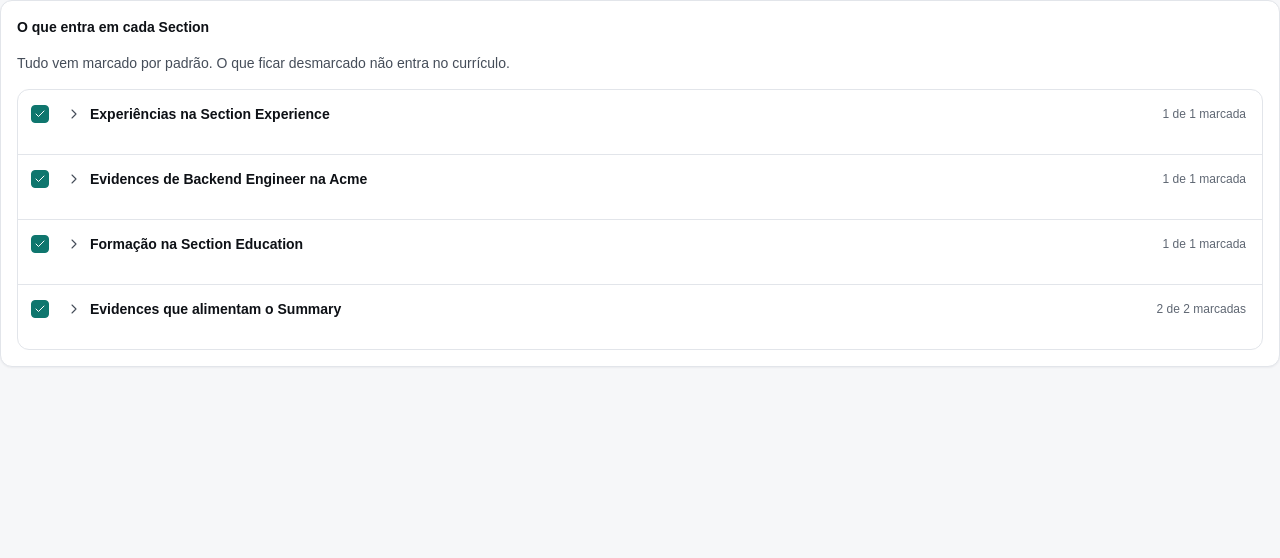
CareerProfilePicker › should start with every experience, formation and evidence checked
The image size is (1280, 558).
Click the button "Experiências na Section Experience 1 de 1 marcada". click: (210, 114)
box: [58,90,1254,138]
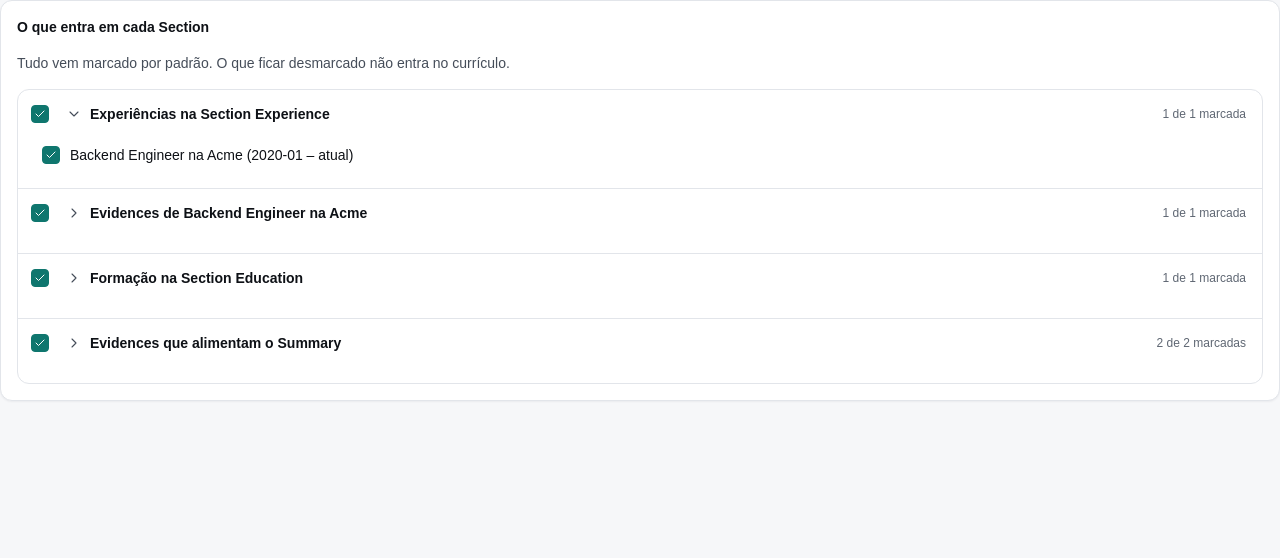
Click the button "Formação na Section Education 1 de 1 marcada". click: (197, 278)
box: [58,254,1254,302]
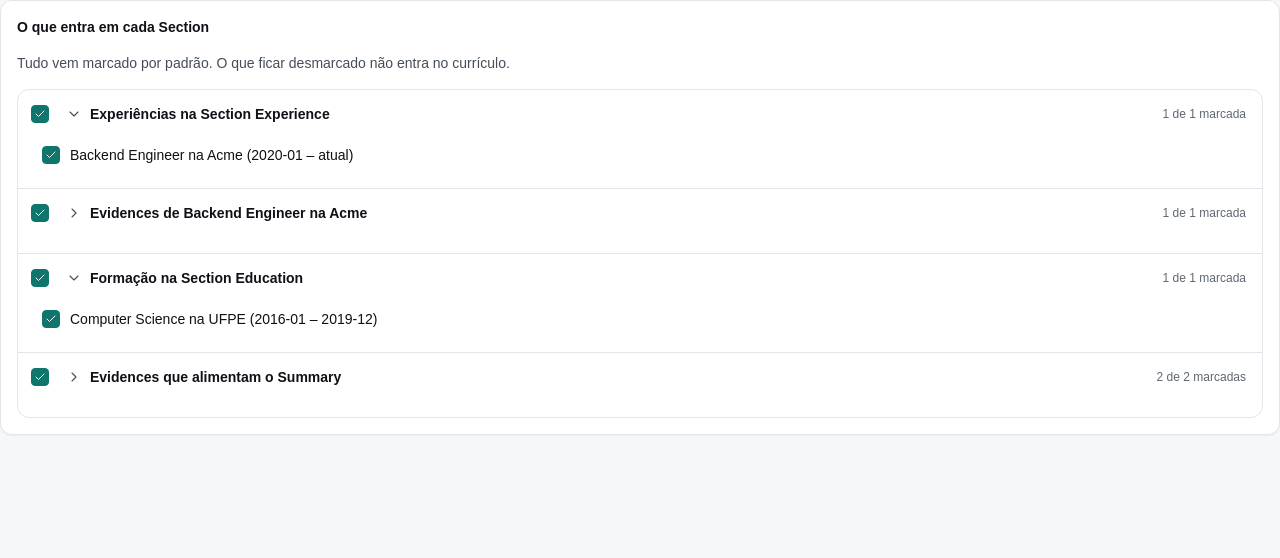
Click the button "Evidences que alimentam o Summary 2 de 2 marcadas". click: (216, 377)
box: [58,353,1254,401]
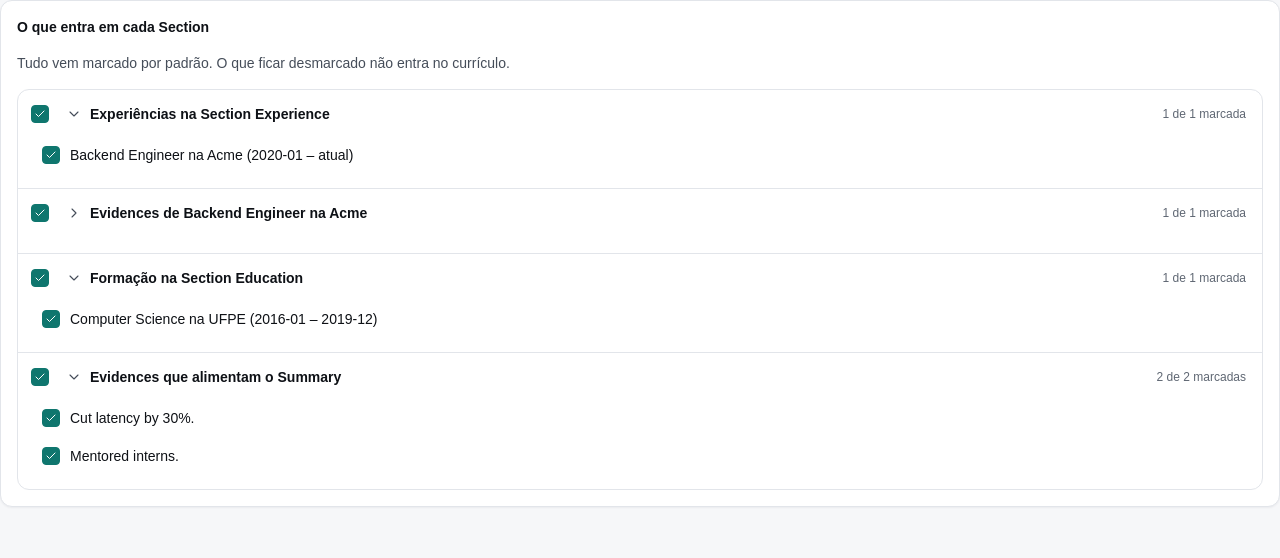
Click the button "Evidences de Backend Engineer na Acme 1 de 1 marcada". click: (229, 213)
box: [58,189,1254,237]
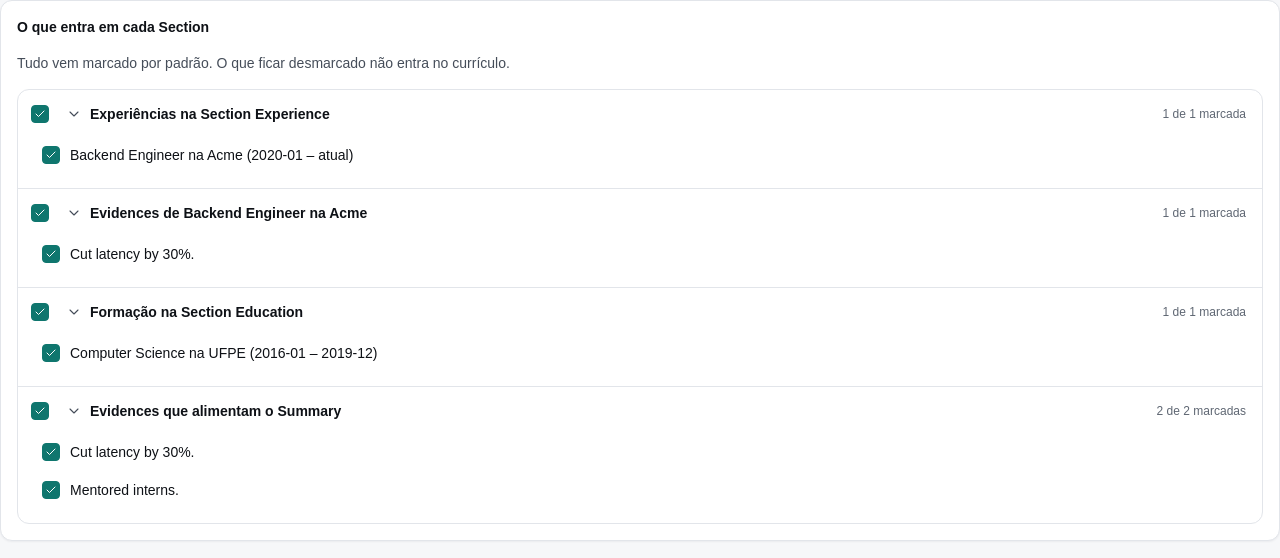
Now the 2nd checkbox labelled "Backend Engineer na Acme (2020-01 – atual)" is checked, box [42,146,353,164]
Now the 4th checkbox labelled "Computer Science na UFPE (2016-01 – 2019-12)" is checked, box [42,344,377,362]
Now the 3rd checkbox labelled "Cut latency by 30%." is checked, box [42,245,194,263]
